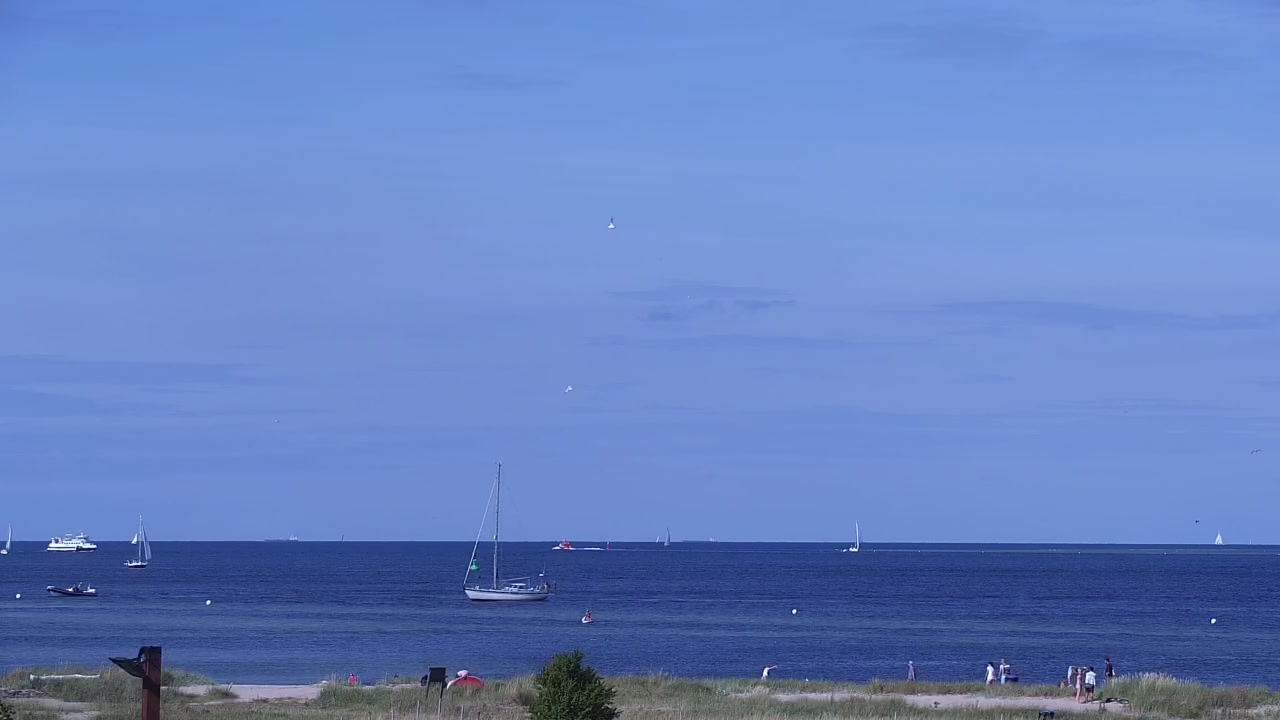human: (1067, 665, 1088, 703), (1085, 664, 1097, 703), (997, 658, 1012, 686), (983, 661, 997, 685), (1102, 658, 1114, 682), (759, 664, 778, 679), (904, 659, 915, 682), (583, 609, 591, 623), (348, 672, 355, 686)
sea: (462, 457, 552, 601), (123, 512, 152, 568), (47, 530, 97, 551), (45, 580, 99, 597), (847, 520, 861, 552), (1, 521, 12, 556), (264, 532, 299, 542), (681, 535, 718, 543), (581, 608, 594, 624), (558, 536, 572, 549), (664, 527, 671, 547), (1214, 530, 1222, 545), (656, 536, 660, 543)
